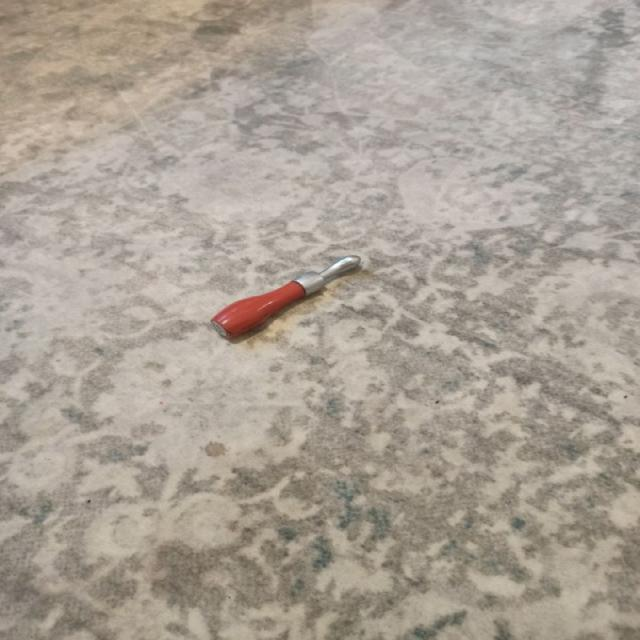lipstick: (209, 254, 361, 340)
